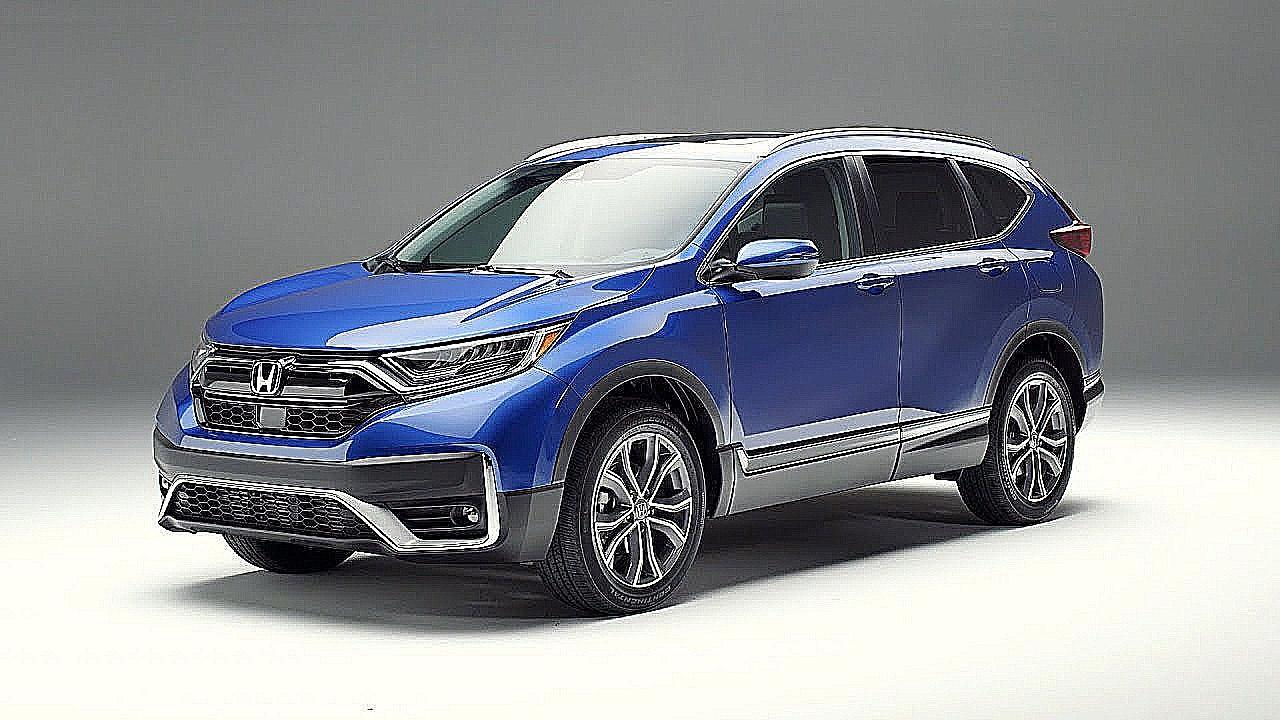Car hood: (201, 250, 661, 355)
Fender - -F-L-: (531, 240, 738, 516)
Fender - -R-L-: (998, 219, 1084, 348)
Front bumper: (136, 375, 585, 570)
Headlight - -L-: (364, 314, 578, 406)
Headlight - -R-: (179, 323, 222, 382)
Passenger-s door - -F-L-: (727, 143, 903, 463)
Passenger-s door - -R-L-: (894, 149, 1038, 448)
Rear bumper: (1067, 256, 1115, 438)
Rear light - -L-: (1026, 153, 1100, 265)
Side bumper - -L-: (694, 404, 1001, 521)
Side mirror - -L-: (698, 228, 826, 298)
